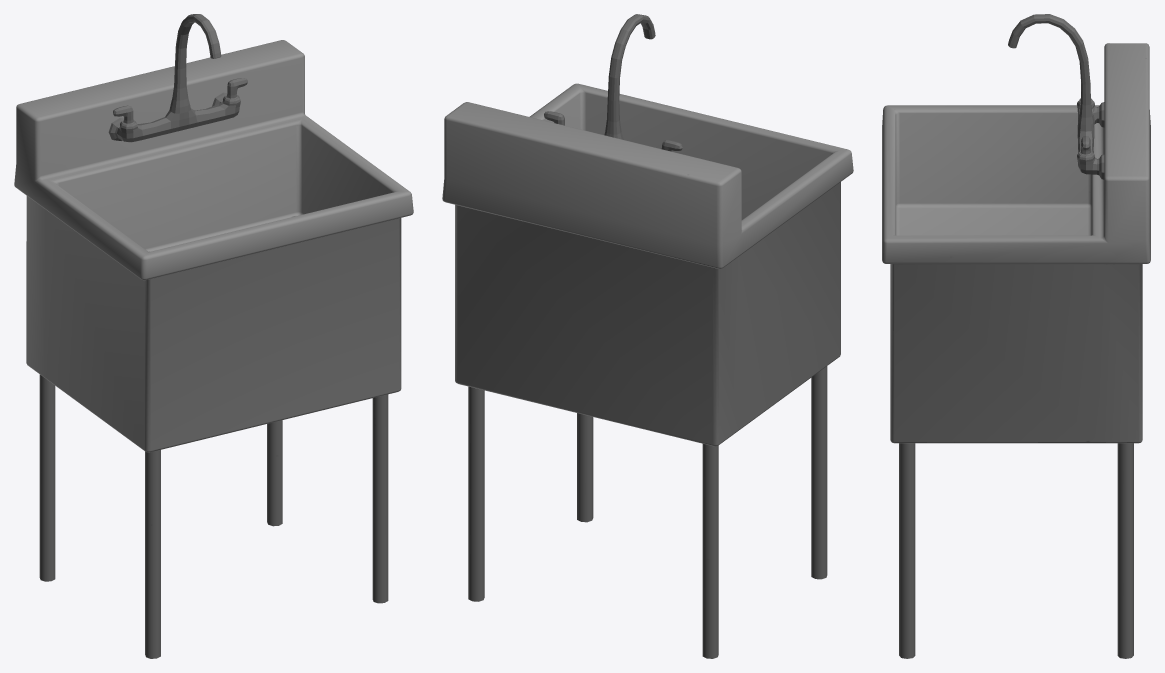
Rendered from sink.fbx.
The picture shows the model from 3 angles, left to right: view 1: azimuth 30°, elevation 25°; view 2: azimuth 150°, elevation 25°; view 3: azimuth 270°, elevation 25°; orthographic projection. The views are drawn at different scales.
Visible parts, largest first — view 1: Cube; view 2: Cube; view 3: Cube.
Boxes of the visible parts, bbox=[...] form: Cube: bbox=[14, 14, 413, 658]; Cube: bbox=[442, 14, 853, 658]; Cube: bbox=[882, 14, 1150, 658].
Bounding box in the file's own units: 322 × 635 × 265.
